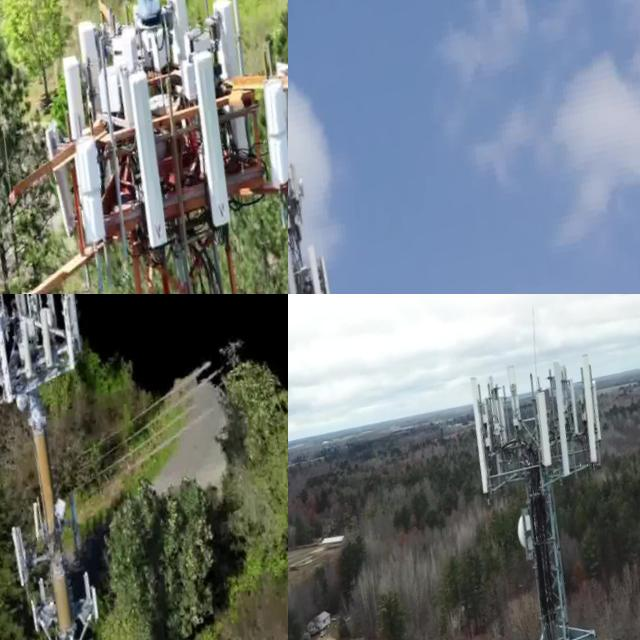GSM Antenna: (173, 38, 271, 246), (108, 56, 202, 256), (62, 128, 132, 254), (36, 118, 99, 234), (543, 354, 595, 487), (569, 344, 623, 469), (463, 371, 511, 492), (248, 62, 288, 191), (74, 12, 121, 116), (57, 46, 103, 138), (532, 389, 571, 472), (485, 372, 522, 454), (503, 362, 537, 438), (13, 314, 48, 382), (0, 327, 26, 409), (307, 235, 343, 294), (35, 300, 66, 368), (55, 294, 93, 347), (288, 241, 318, 294), (321, 254, 352, 294), (289, 152, 312, 198), (5, 294, 34, 321), (288, 251, 305, 294), (39, 294, 63, 318), (21, 294, 46, 313)
Microwave Antenna: (517, 506, 559, 566), (302, 175, 321, 208)
